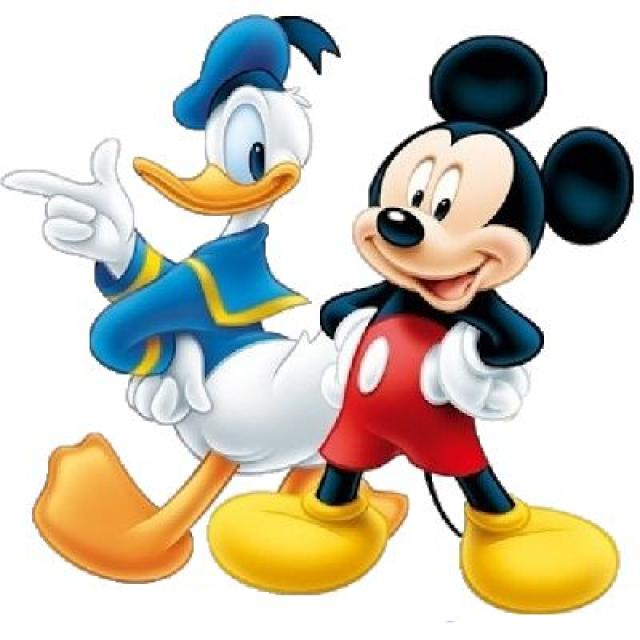mickey: (345, 24, 640, 607)
